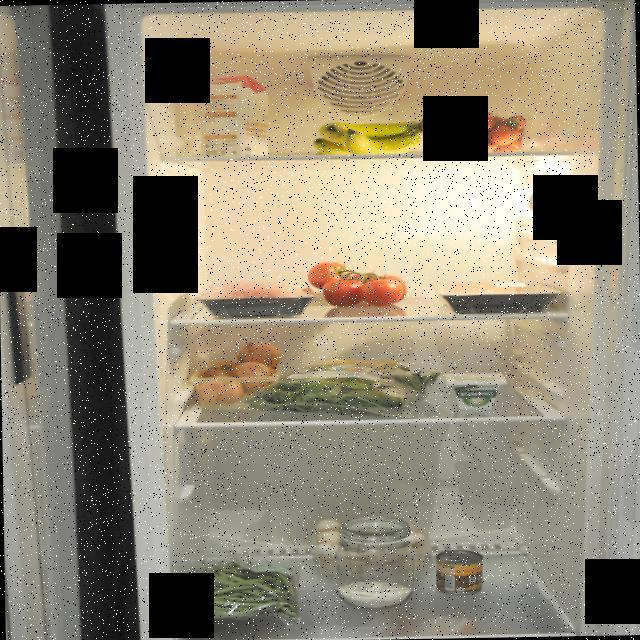banana: (310, 118, 431, 156)
beef: (426, 278, 564, 314)
corn: (435, 548, 484, 595)
flour: (332, 512, 418, 608)
goat_cheese: (442, 371, 508, 411)
green_beans: (178, 548, 306, 630)
ground_beef: (194, 277, 320, 318)
mushrooms: (312, 516, 426, 580)
onion: (188, 341, 288, 411)
spinach: (244, 354, 443, 420)
strawberries: (442, 108, 534, 153)
sugar: (199, 74, 271, 158)
tomato: (306, 258, 413, 308)
